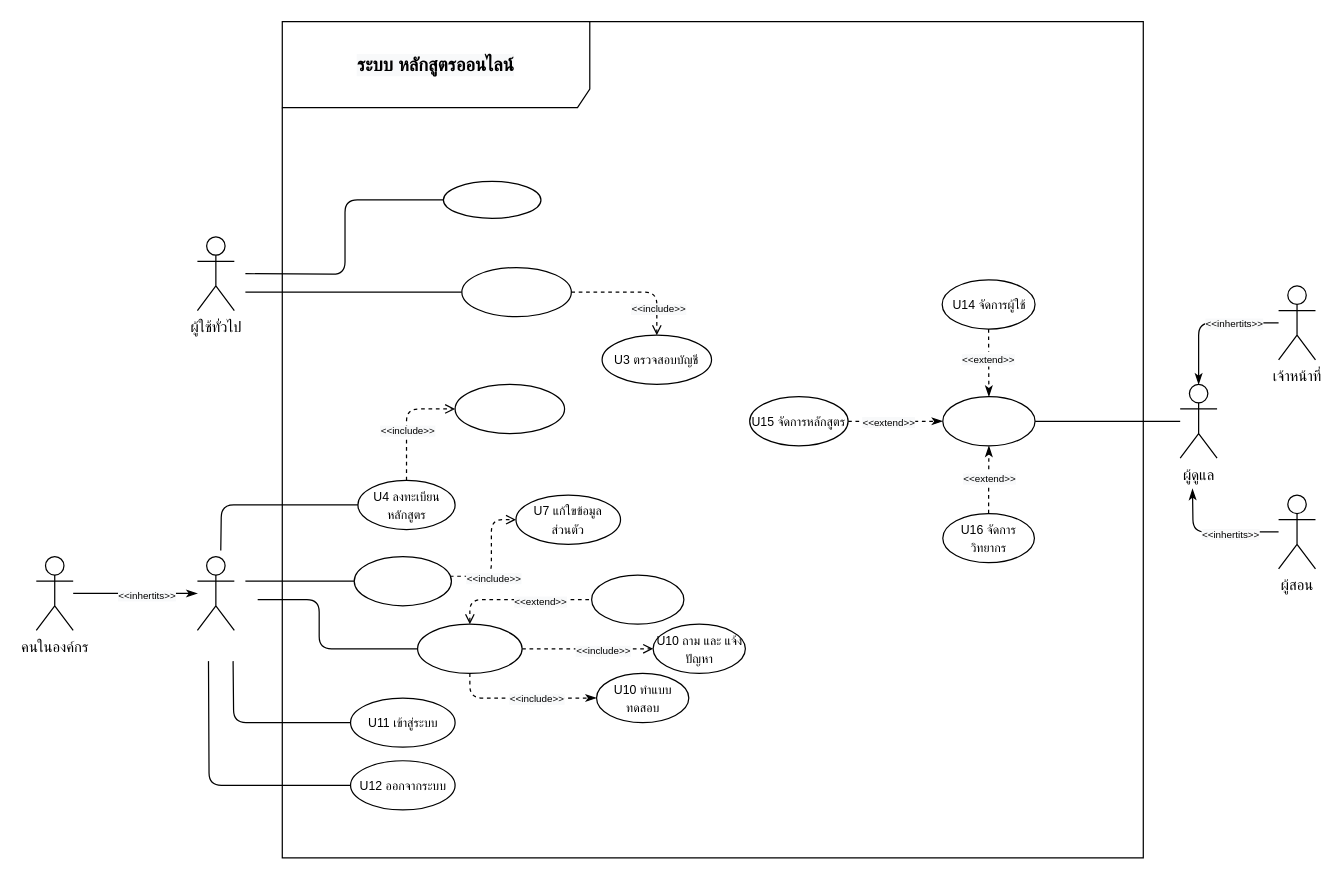
This 1342x879 diagram has some shape labels left out. Here are the shapes that lost their labels. From the top down, the centre of each, then its label:
At [491,199]: "U1 ดูหลักสูตร".
At [516,291]: "U2 ลงทะเบียน".
At [509,408]: "U5 ชำระเงิน".
At [988,420]: "U13 ตรวจสอบสิทธ์".
At [215,592]: "สมาชิก".
At [402,580]: "U6 ข้อมูลส่วนตัว".
At [637,599]: "U9 ความคืบหน้า".
At [469,648]: "U8 ดูการสอน".
